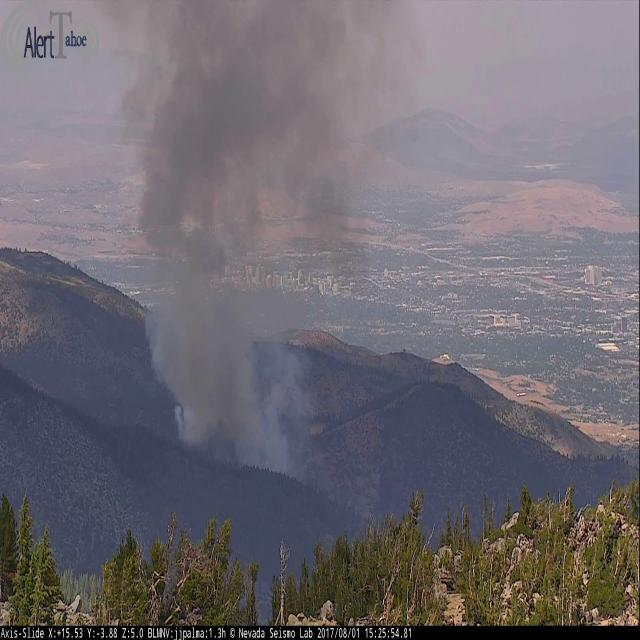smoke: (125, 0, 397, 453)
